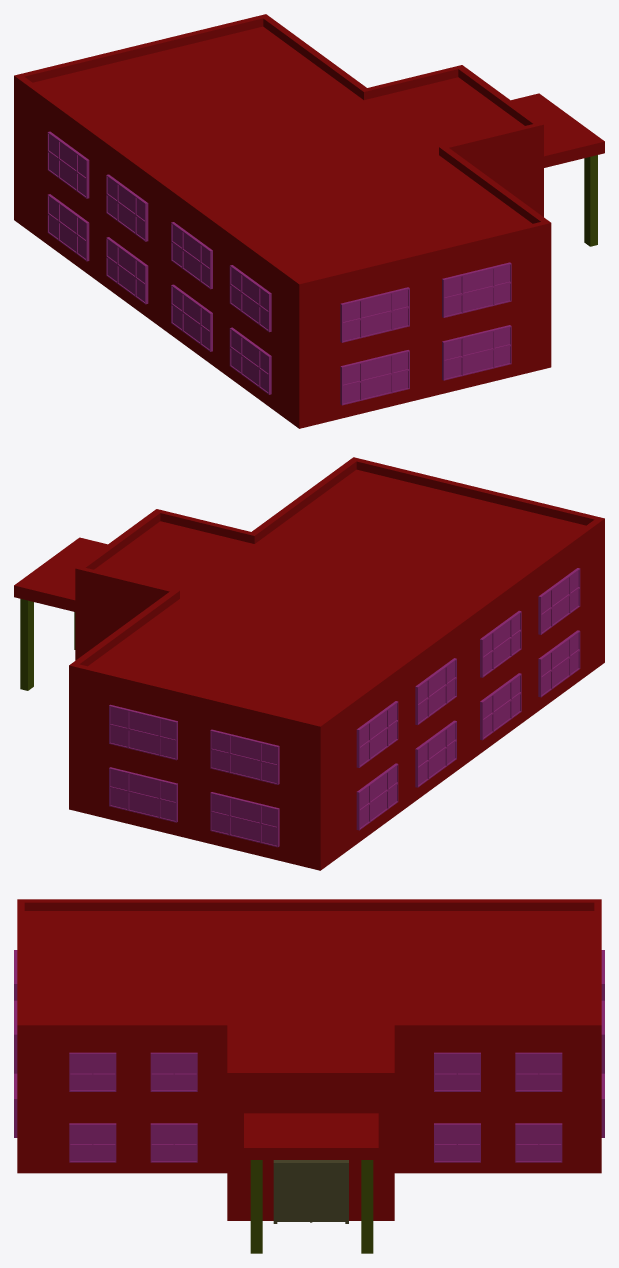
The model's file is ART-MOD-A-SCHOOL-001.FBX.
3 renders of one model, top to bottom at view 1: azimuth 30°, elevation 25°; view 2: azimuth 150°, elevation 25°; view 3: azimuth 270°, elevation 25°, orthographic. The views are drawn at different scales.
Parts seen in each view (by area): view 1: Box009; view 2: Box009; view 3: Box009.
Part boxes in pixels (x1=…): Box009: x1=14, y1=14, x2=604, y2=428; Box009: x1=14, y1=457, x2=604, y2=870; Box009: x1=14, y1=899, x2=604, y2=1253.
Bounding box in the file's own units: 5200 × 1714 × 6200.
